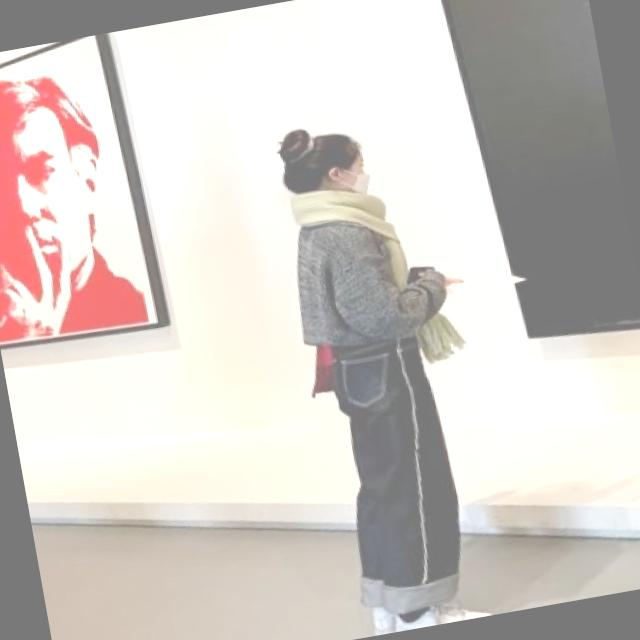cardigan: (278, 198, 462, 364)
denimpants: (317, 329, 478, 619)
